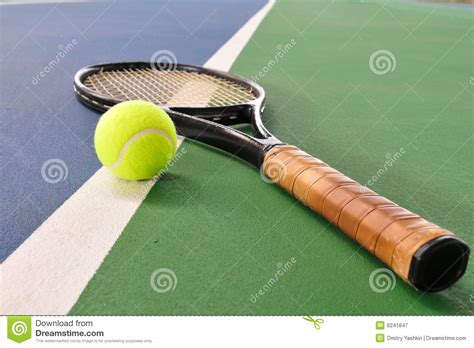tennis_ball: (95, 100, 178, 181)
